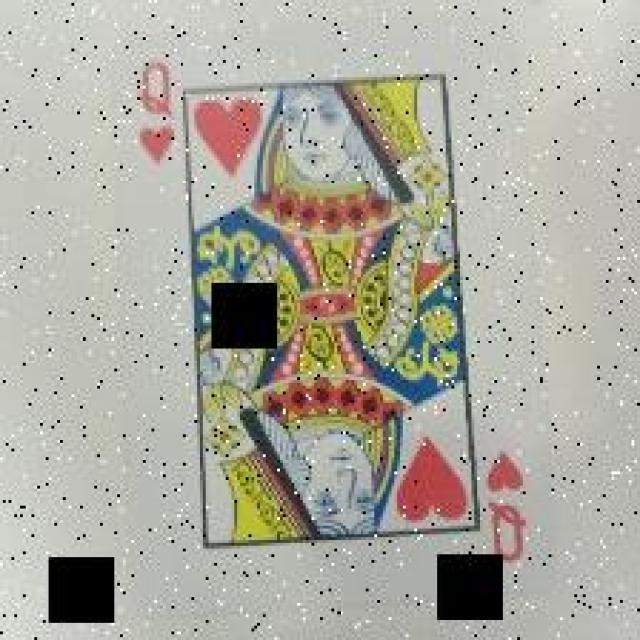Queen of hearts: (132, 45, 545, 594)
